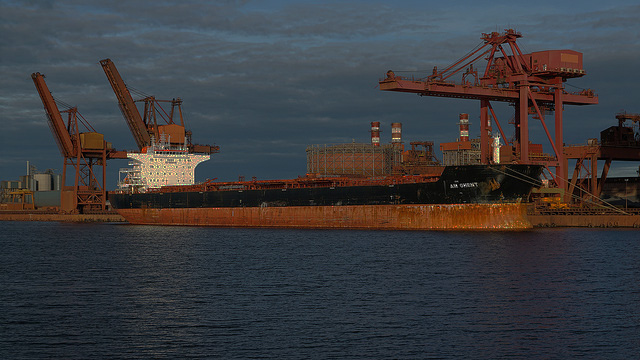bulk carrier: (106, 131, 539, 235)
